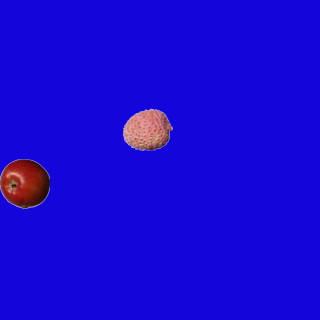Apple Braeburn: (0, 158, 49, 208)
Lychee: (122, 104, 172, 154)
